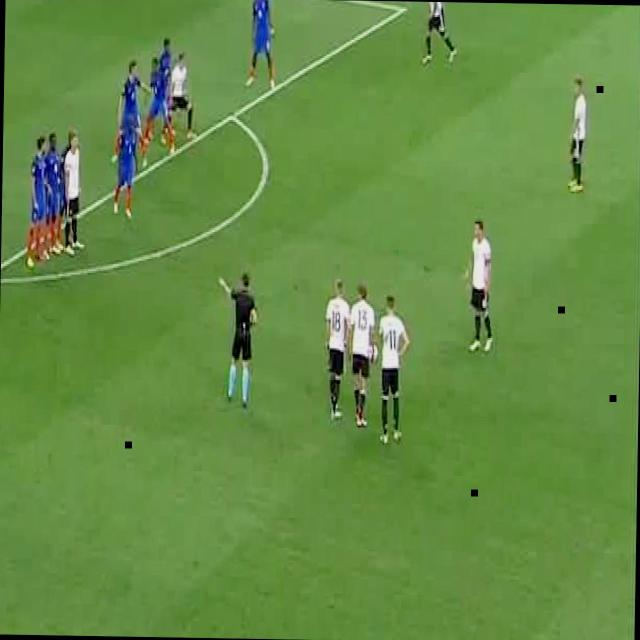player-white: (216, 271, 258, 406), (378, 297, 410, 446), (347, 285, 379, 429), (322, 278, 351, 420), (466, 219, 496, 354), (118, 61, 151, 175), (160, 53, 200, 141), (143, 56, 175, 158), (25, 134, 47, 268), (64, 133, 88, 255), (244, 0, 276, 89), (42, 133, 62, 263), (421, 2, 457, 68), (113, 113, 135, 219), (568, 78, 587, 194), (157, 39, 175, 145)
